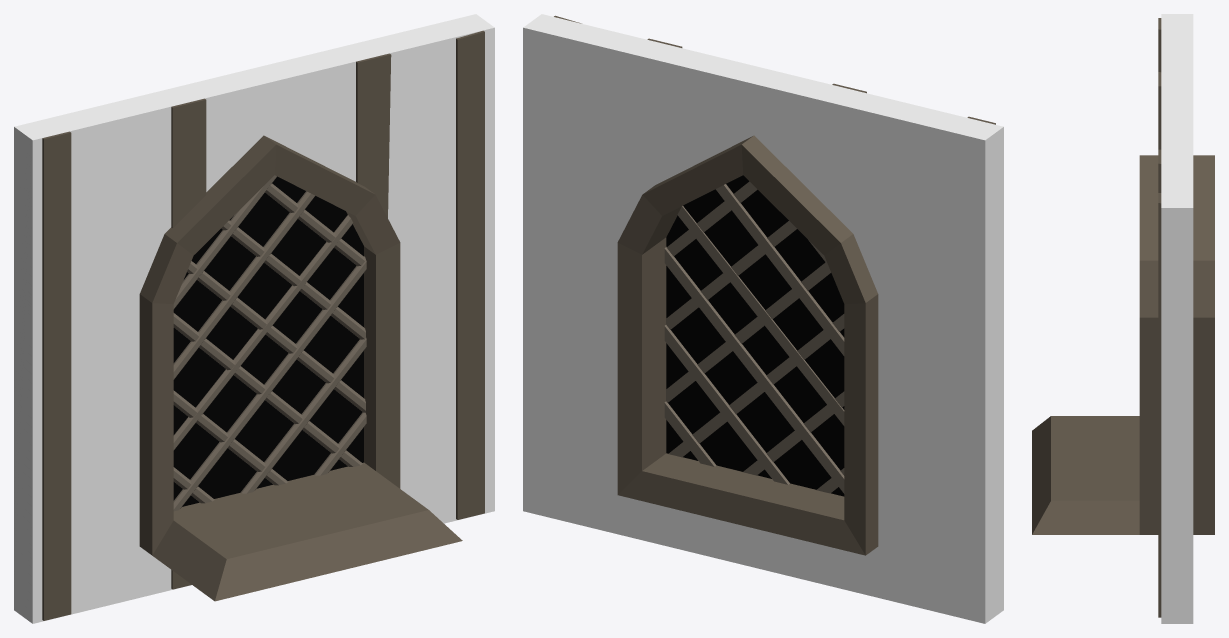
The model's file is ROOF_triangle_window_grid_1.fbx.
3 renders of one model, left to right at view 1: azimuth 30°, elevation 25°; view 2: azimuth 150°, elevation 25°; view 3: azimuth 270°, elevation 25°, orthographic. The views are drawn at different scales.
Visible parts, largest first — view 1: ROOF_triangle_window_grid_1; view 2: ROOF_triangle_window_grid_1; view 3: ROOF_triangle_window_grid_1.
Part boxes in pixels (x1,y1,x2,y2): ROOF_triangle_window_grid_1: (14, 14, 494, 623); ROOF_triangle_window_grid_1: (523, 14, 1003, 623); ROOF_triangle_window_grid_1: (1032, 14, 1214, 623).
Bounding box in the file's own units: 100 × 100 × 39.84.
